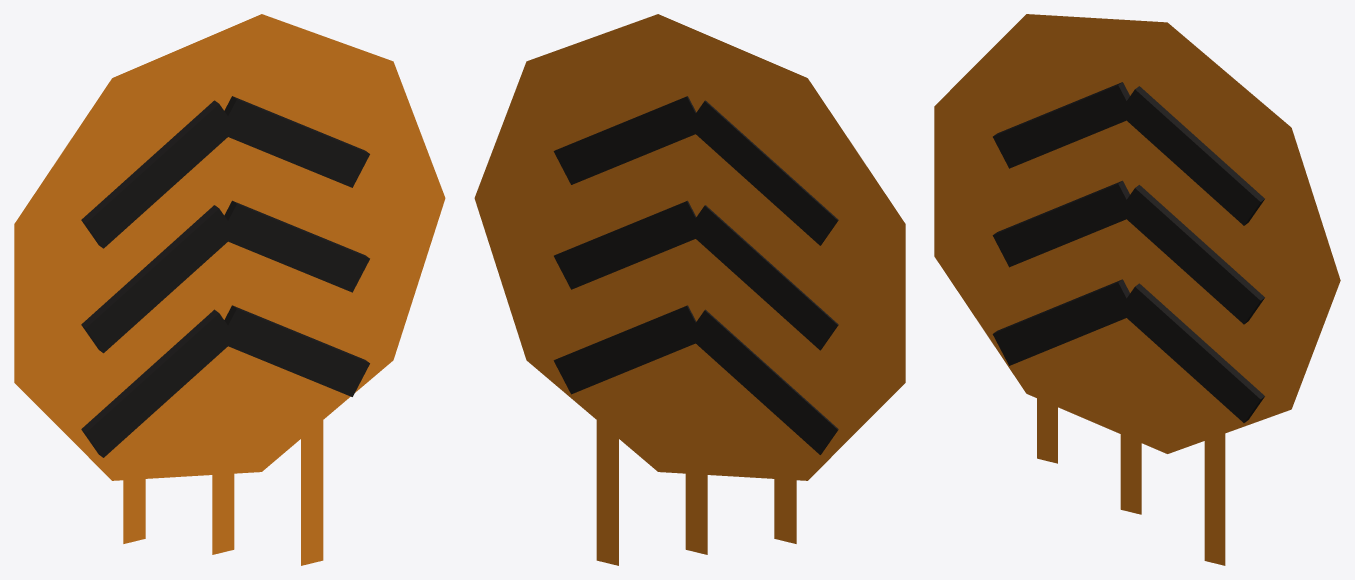
The model's file is tag_colonie.glb.
3 views of the same model, side by side, from view 1: azimuth 30°, elevation 25°; view 2: azimuth 150°, elevation 25°; view 3: azimuth 330°, elevation 25° (orthographic). The views are drawn at different scales.
Visible parts, largest first — view 1: tag_colonie; view 2: tag_colonie; view 3: tag_colonie.
Part boxes in pixels (x1,y1,x2,y2): tag_colonie: (14, 14, 445, 565); tag_colonie: (474, 14, 905, 565); tag_colonie: (934, 14, 1340, 565).
Size of the model in its own units: 3.88 by 4.83 by 0.09.
